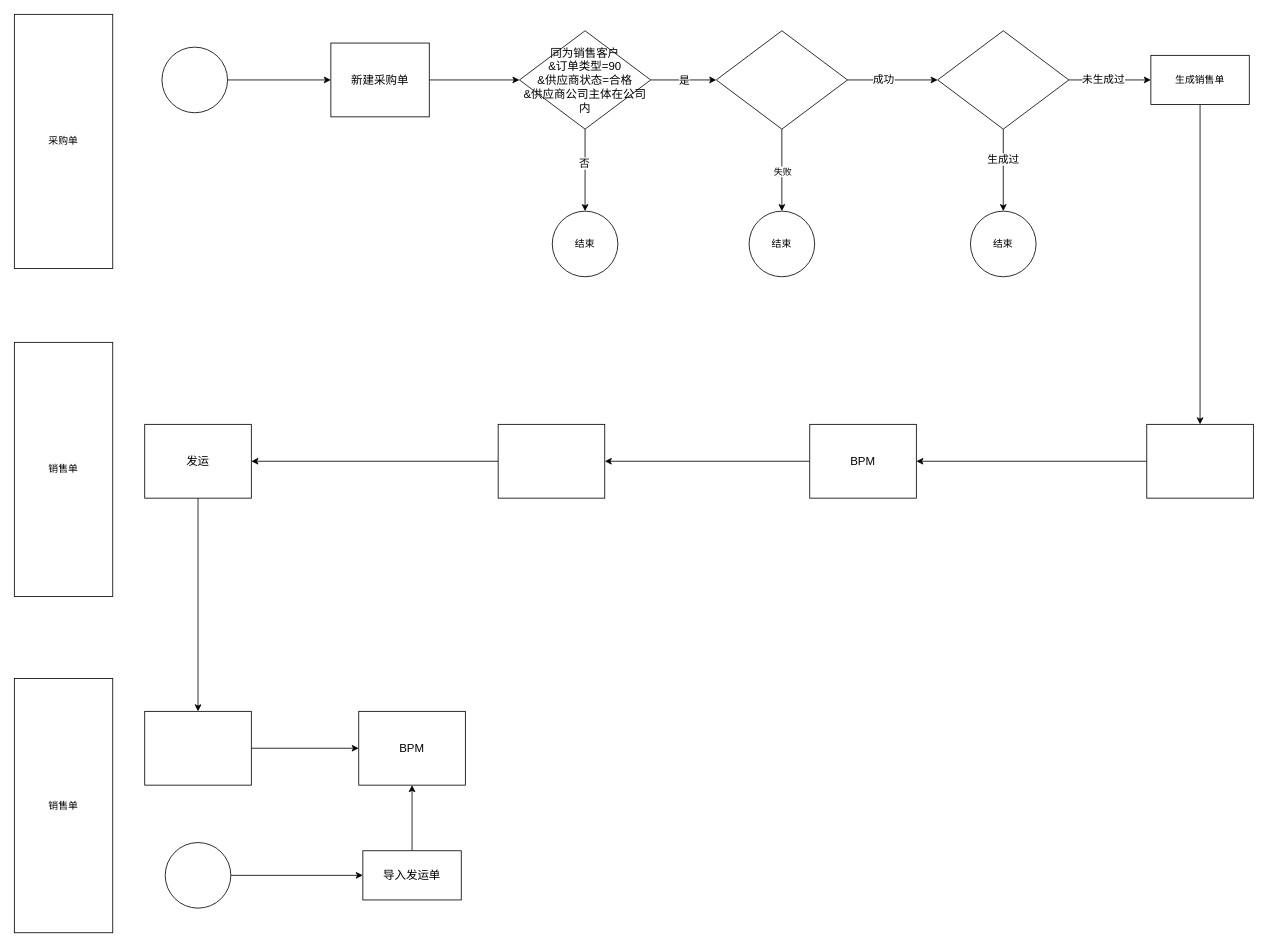
Image size: 1268x947. Some labels were removed from this diagram. The shapes that lost their labels are listed below. From the top down, each one's centre as x and y in pixels, then its label:
point (194, 79): 开始
point (781, 79): 同步EBS状态
point (1003, 79): 根据来源单号判断是否成功过销售单
point (551, 461): 审批通过
point (1199, 461): PO生成销售单接口
point (197, 748): 销售单发运
point (197, 875): 发运单开始
